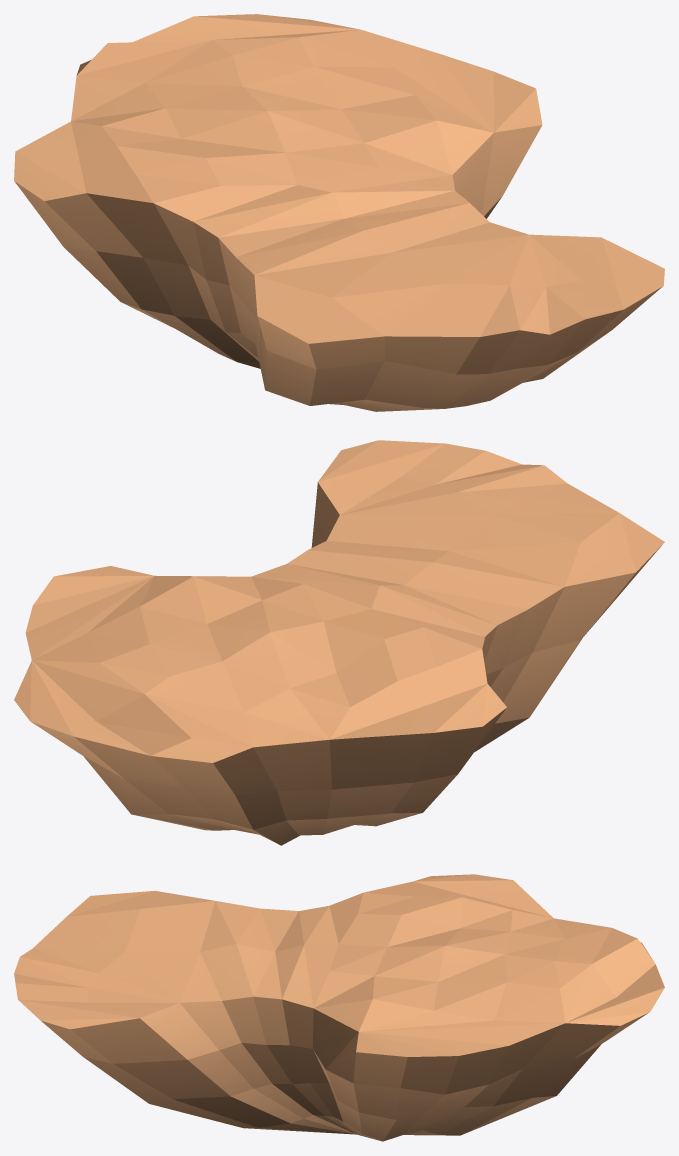
The model's file is Island3.glb.
3 views of the same model, one above another, from view 1: azimuth 30°, elevation 25°; view 2: azimuth 150°, elevation 25°; view 3: azimuth 270°, elevation 25° (orthographic). The views are drawn at different scales.
Parts seen in each view (by area): view 1: Vert.003; view 2: Vert.003; view 3: Vert.003.
Boxes of the visible parts, <box> form: Vert.003: <box>14,14,664,411</box>; Vert.003: <box>14,440,664,845</box>; Vert.003: <box>14,874,664,1141</box>.
Size of the model in its own units: 17.39 by 8.15 by 25.54.
Materials: 1 (1 with a texture image).
